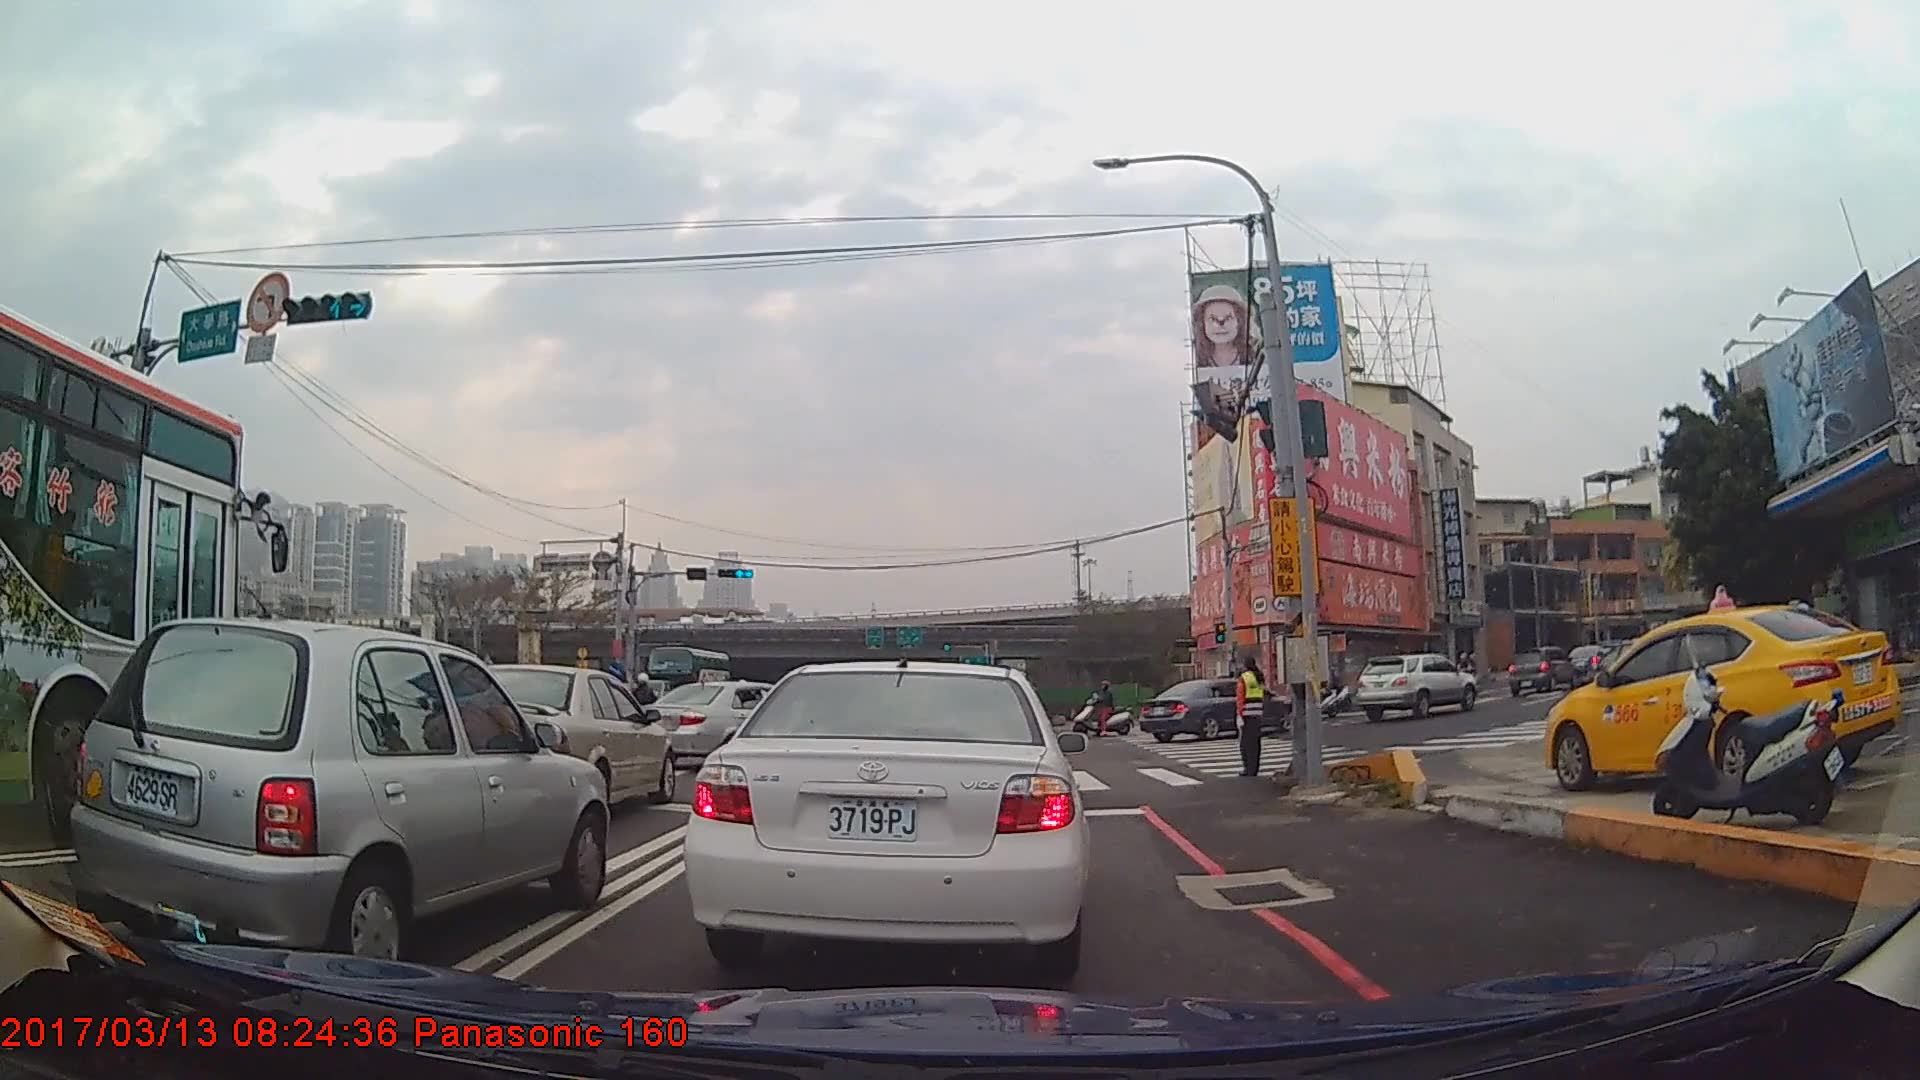pedestrian: (1229, 657, 1268, 777)
rider: (1074, 681, 1136, 739), (627, 674, 658, 747), (1302, 664, 1339, 718)
vehicle: (68, 616, 609, 978), (0, 297, 241, 841), (683, 653, 1089, 973), (1543, 603, 1899, 793), (440, 662, 675, 828), (638, 680, 825, 772), (1141, 674, 1293, 744), (1354, 650, 1476, 719), (645, 645, 730, 705), (1505, 646, 1576, 694)
